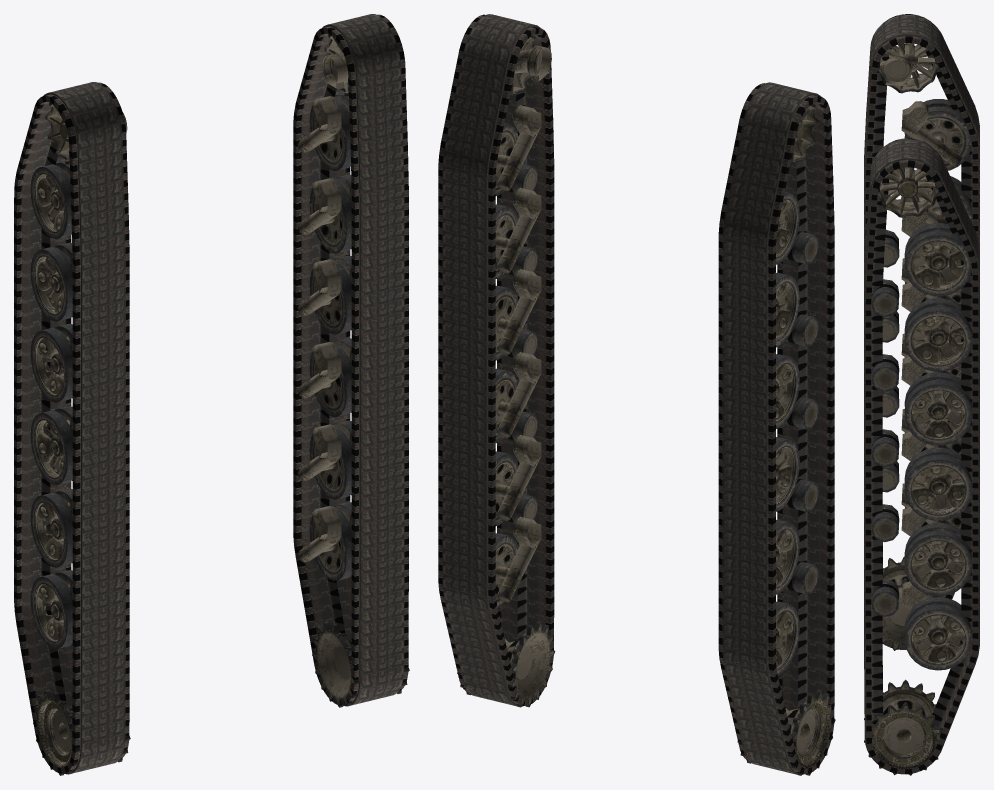
File: Chassis.glb
The picture shows the model from 3 angles, left to right: view 1: azimuth 30°, elevation 25°; view 2: azimuth 150°, elevation 25°; view 3: azimuth 270°, elevation 25°; orthographic projection. The views are drawn at different scales.
Parts seen in each view (by area): view 1: set_0_group_0, set_1_group_0, set_3_group_0, set_2_group_0; view 2: set_0_group_0, set_1_group_0, set_3_group_0, set_2_group_0; view 3: set_3_group_0, set_1_group_0, set_2_group_0, set_0_group_0.
Part boxes in pixels (x1=…): set_0_group_0: x1=14, y1=82, x2=129, y2=774; set_1_group_0: x1=293, y1=14, x2=408, y2=706; set_3_group_0: x1=297, y1=34, x2=409, y2=707; set_2_group_0: x1=30, y1=103, x2=130, y2=775; set_0_group_0: x1=718, y1=82, x2=834, y2=774; set_1_group_0: x1=438, y1=14, x2=554, y2=706; set_3_group_0: x1=457, y1=35, x2=555, y2=707; set_2_group_0: x1=737, y1=104, x2=835, y2=775; set_3_group_0: x1=864, y1=167, x2=972, y2=775; set_1_group_0: x1=864, y1=138, x2=979, y2=774; set_2_group_0: x1=877, y1=43, x2=972, y2=650; set_0_group_0: x1=864, y1=14, x2=979, y2=649.
Bounding box in the file's own units: 3.4 × 6.58 × 1.12.
Materials: 4 (4 with a texture image).
